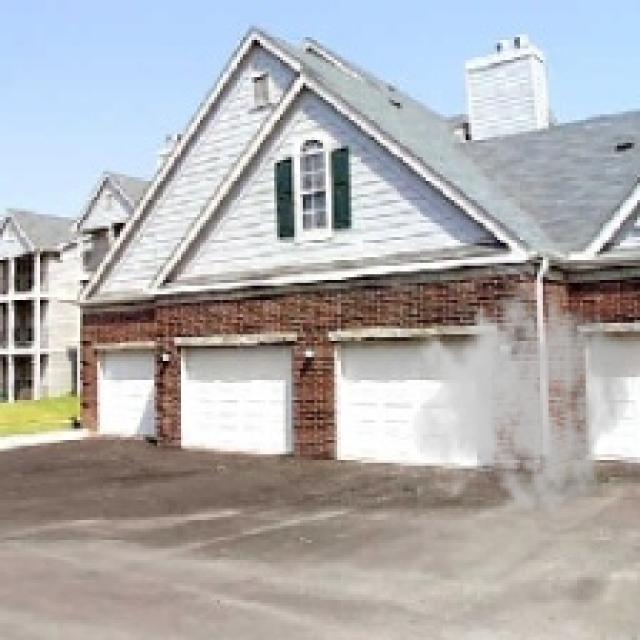smoke: (412, 263, 632, 523)
